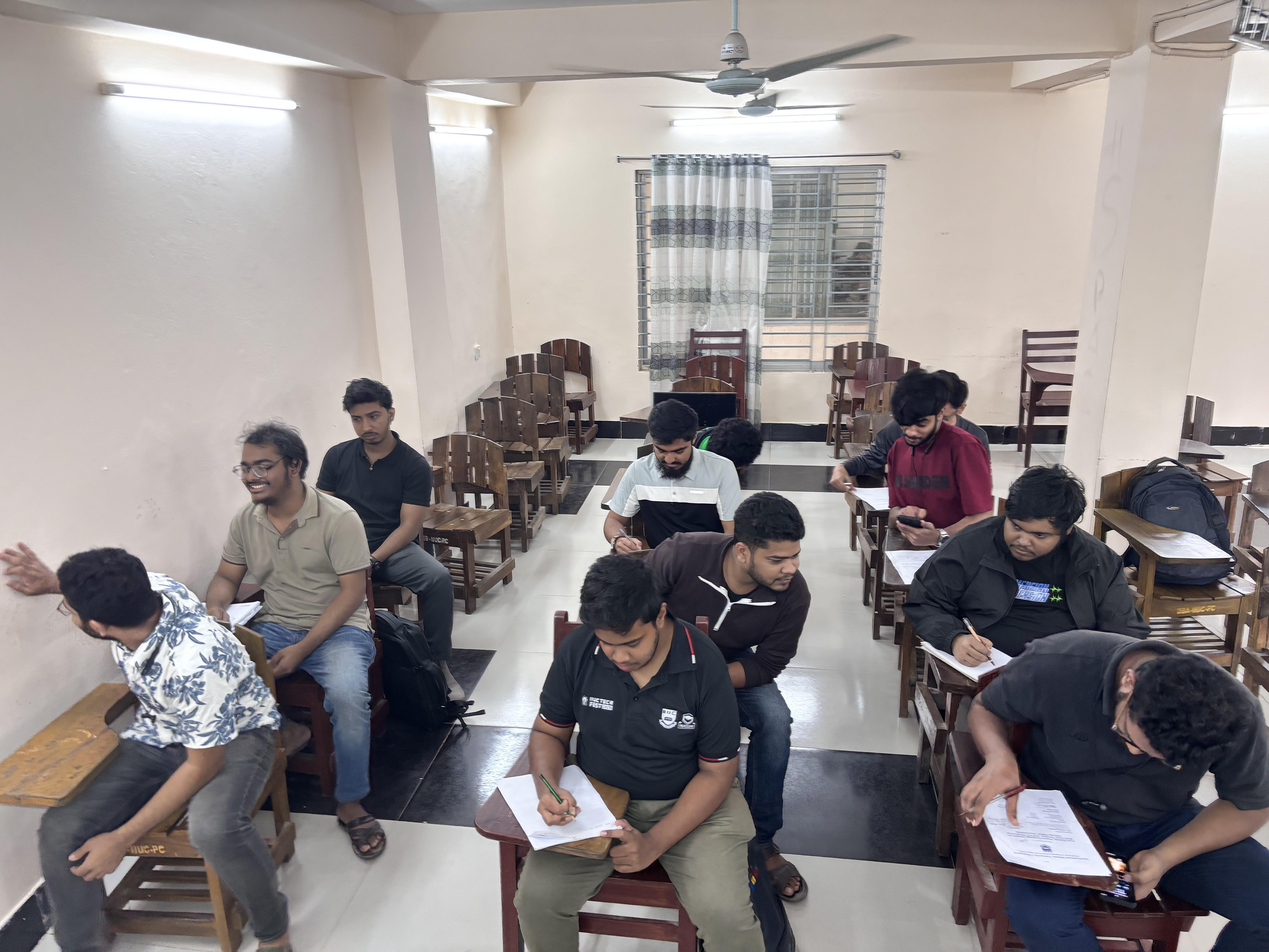copying: (1, 510, 301, 952), (904, 457, 1150, 697), (646, 482, 822, 667)
no_cheating: (493, 551, 773, 952), (609, 390, 739, 558)
side_talking: (699, 403, 766, 489)
suspicious_moving: (199, 421, 393, 868), (317, 376, 471, 674)
using_phone: (943, 620, 1269, 952), (830, 350, 1000, 568)
